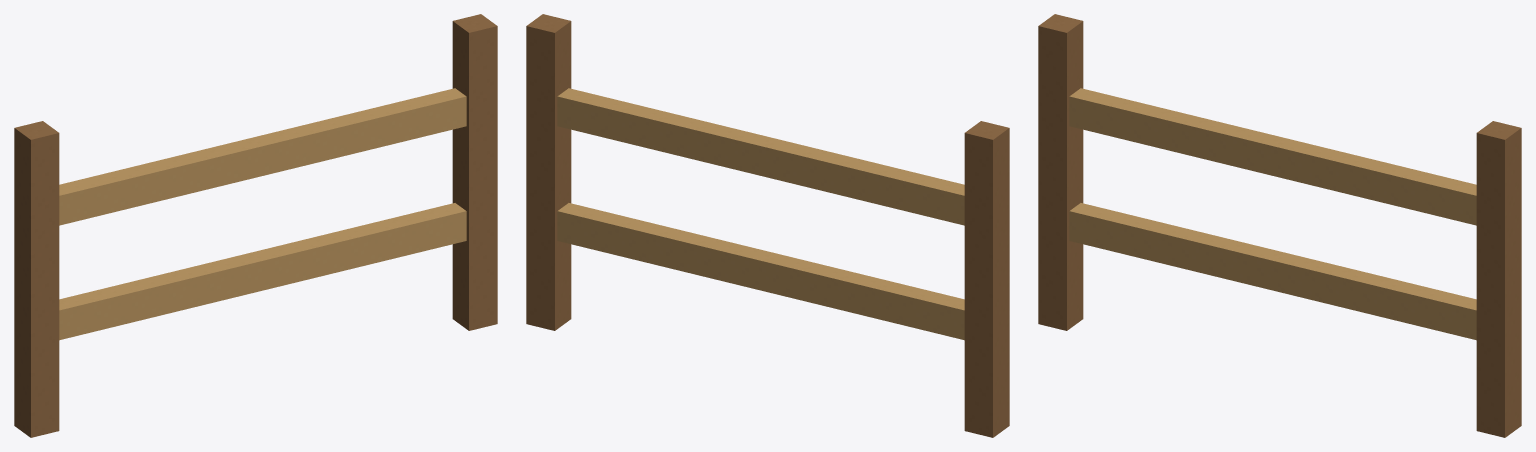
Rendered from fence.glb.
The picture shows the model from 3 angles, left to right: view 1: azimuth 30°, elevation 25°; view 2: azimuth 150°, elevation 25°; view 3: azimuth 330°, elevation 25°; orthographic projection.
Visible parts, largest first — view 1: Fence horizontal rail 004, Fence horizontal rail 003, Fence post 001, Fence post 002; view 2: Fence horizontal rail 004, Fence horizontal rail 003, Fence post 001, Fence post 002; view 3: Fence horizontal rail 004, Fence horizontal rail 003, Fence post 002, Fence post 001.
Boxes of the visible parts, x1,y1,x2,y2 form: Fence horizontal rail 004: (59,88,466,225); Fence horizontal rail 003: (59,203,466,340); Fence post 001: (14,121,59,437); Fence post 002: (452,14,497,330); Fence horizontal rail 004: (557,88,964,225); Fence horizontal rail 003: (557,203,964,340); Fence post 001: (964,121,1009,437); Fence post 002: (526,14,571,330); Fence horizontal rail 004: (1069,88,1476,225); Fence horizontal rail 003: (1069,203,1476,340); Fence post 002: (1476,121,1521,437); Fence post 001: (1038,14,1083,330).
Size of the model in its own units: 2.13 by 1.3 by 0.13.
Materials: 2 (2 with a texture image).
